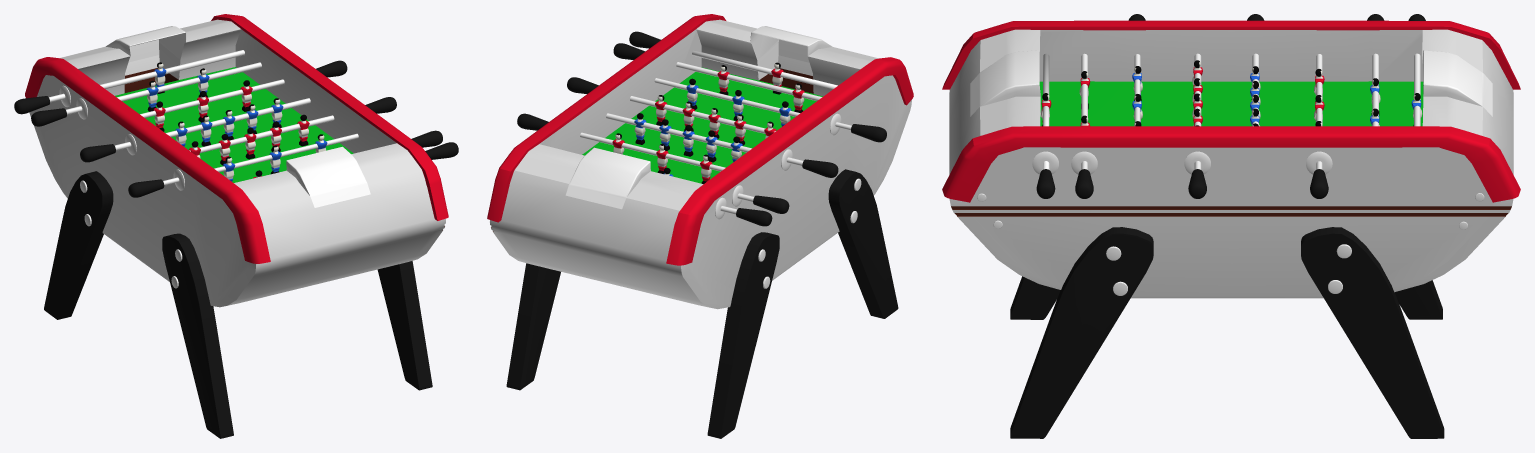
File: babyfoot.fbx
3 views of the same model, side by side, from view 1: azimuth 30°, elevation 25°; view 2: azimuth 150°, elevation 25°; view 3: azimuth 270°, elevation 25° (orthographic). The views are drawn at different scales.
Parts seen in each view (by area): view 1: baby, leg.001, leg, leg.003, barre.005, barre.004, barre.001, barre.002, barre.003, barre, manche.007, manche.002 (+2 smaller); view 2: baby, leg, leg.001, leg.002, barre.007, barre.002, barre.006, barre.001, barre.003, barre, manche.002, manche.001 (+2 smaller); view 3: baby, leg.002, leg.003, leg.001, leg.
Part boxes in pixels (x1=…): baby: x1=25, y1=14, x2=448, y2=307; leg.001: x1=162, y1=233, x2=233, y2=438; leg: x1=44, y1=171, x2=113, y2=319; leg.003: x1=377, y1=261, x2=432, y2=390; barre.005: x1=49, y1=50, x2=244, y2=102; barre.004: x1=66, y1=62, x2=261, y2=114; barre.001: x1=163, y1=133, x2=358, y2=185; barre.002: x1=114, y1=98, x2=310, y2=150; barre.003: x1=140, y1=79, x2=284, y2=117; barre: x1=189, y1=115, x2=334, y2=153; manche.007: x1=128, y1=179, x2=164, y2=197; manche.002: x1=80, y1=144, x2=115, y2=162; baby: x1=487, y1=14, x2=913, y2=309; leg: x1=707, y1=232, x2=779, y2=438; leg.001: x1=828, y1=169, x2=898, y2=318; leg.002: x1=506, y1=263, x2=560, y2=390; barre.007: x1=692, y1=50, x2=837, y2=89; barre.002: x1=606, y1=113, x2=803, y2=165; barre.006: x1=676, y1=62, x2=822, y2=100; barre.001: x1=654, y1=78, x2=851, y2=130; barre.003: x1=580, y1=132, x2=725, y2=171; barre: x1=630, y1=96, x2=775, y2=133; manche.002: x1=802, y1=159, x2=838, y2=177; manche.001: x1=753, y1=195, x2=789, y2=213; baby: x1=942, y1=20, x2=1520, y2=298; leg.002: x1=1301, y1=227, x2=1444, y2=438; leg.003: x1=1010, y1=227, x2=1153, y2=438; leg.001: x1=1010, y1=276, x2=1060, y2=319; leg: x1=1395, y1=280, x2=1442, y2=319.
Bounding box in the file's own units: 307 × 255 × 433.
